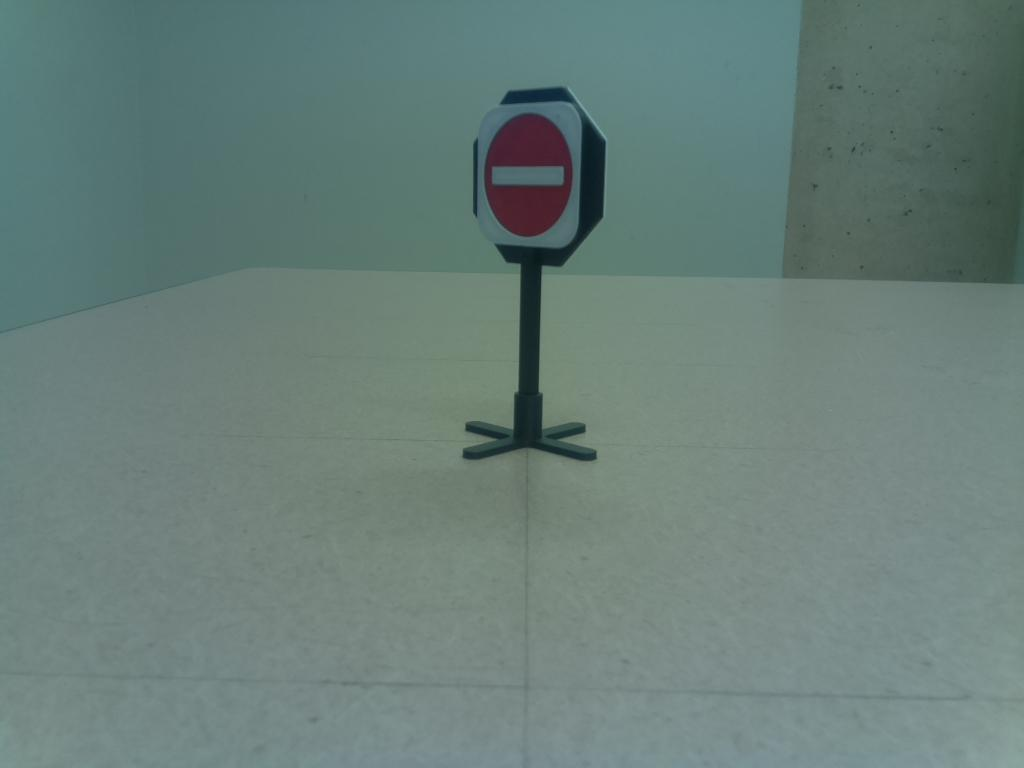sign_noentry: (462, 80, 618, 269)
